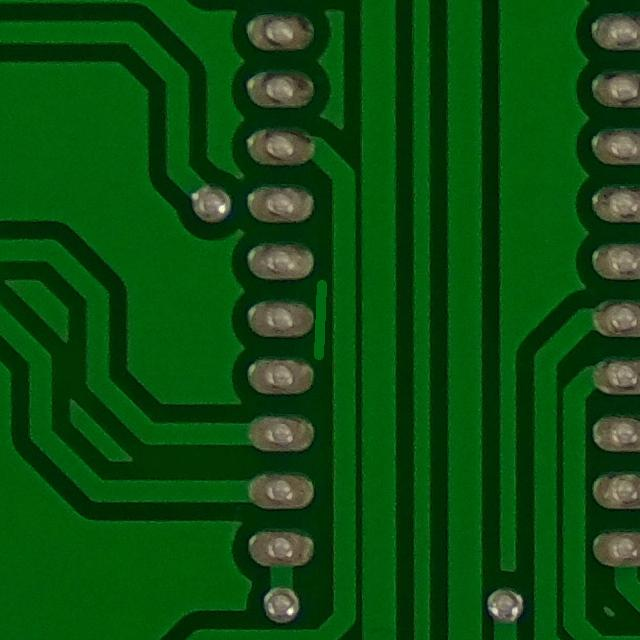spurious_copper: (301, 272, 340, 369)
